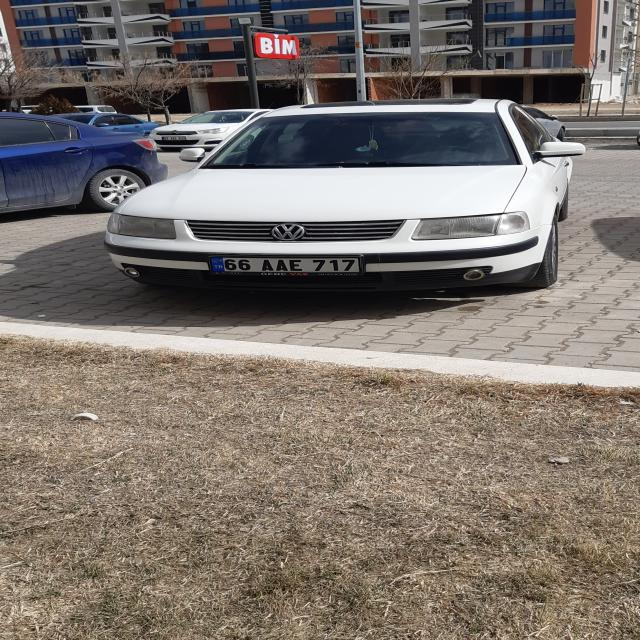plate: (208, 257, 361, 273)
